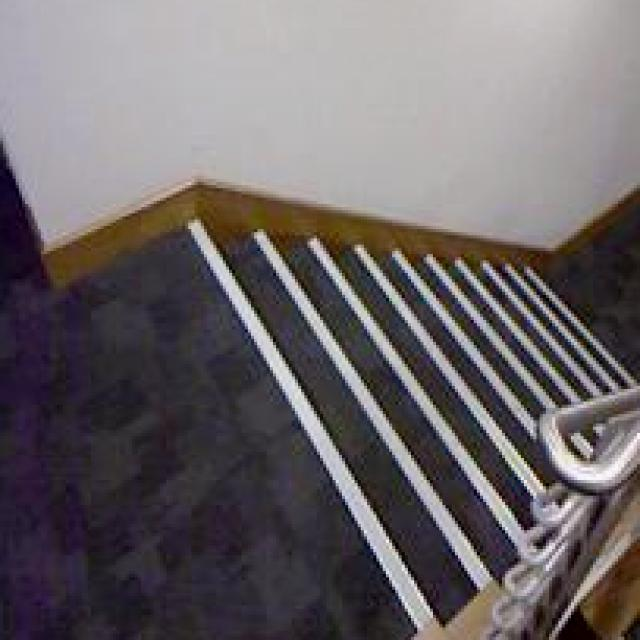downstair: (161, 164, 569, 560)
